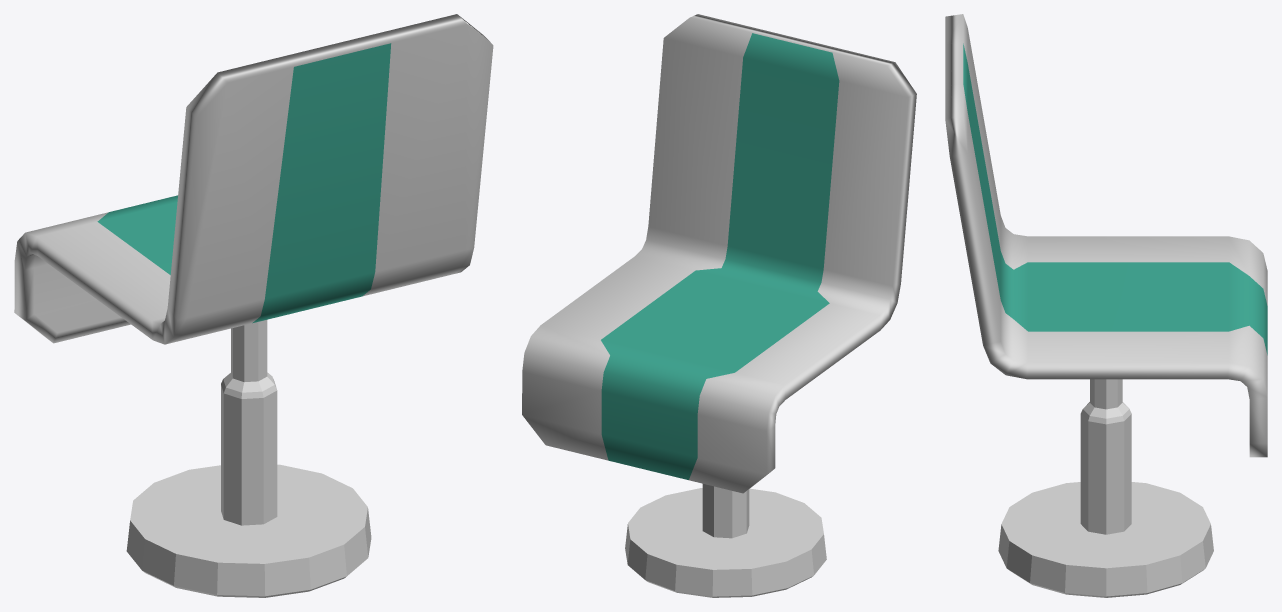
The model's file is FUR0310013.fbx.
3 renders of one model, left to right at view 1: azimuth 30°, elevation 25°; view 2: azimuth 150°, elevation 25°; view 3: azimuth 270°, elevation 25°, orthographic. The views are drawn at different scales.
Parts seen in each view (by area): view 1: smFUR0310013; view 2: smFUR0310013; view 3: smFUR0310013.
Boxes of the visible parts, x1,y1,x2,y2 form: smFUR0310013: [14, 14, 493, 597]; smFUR0310013: [522, 14, 916, 597]; smFUR0310013: [945, 14, 1267, 597].
Size of the model in its own units: 68.71 by 124 by 74.07.
Materials: 1 (1 with a texture image).
